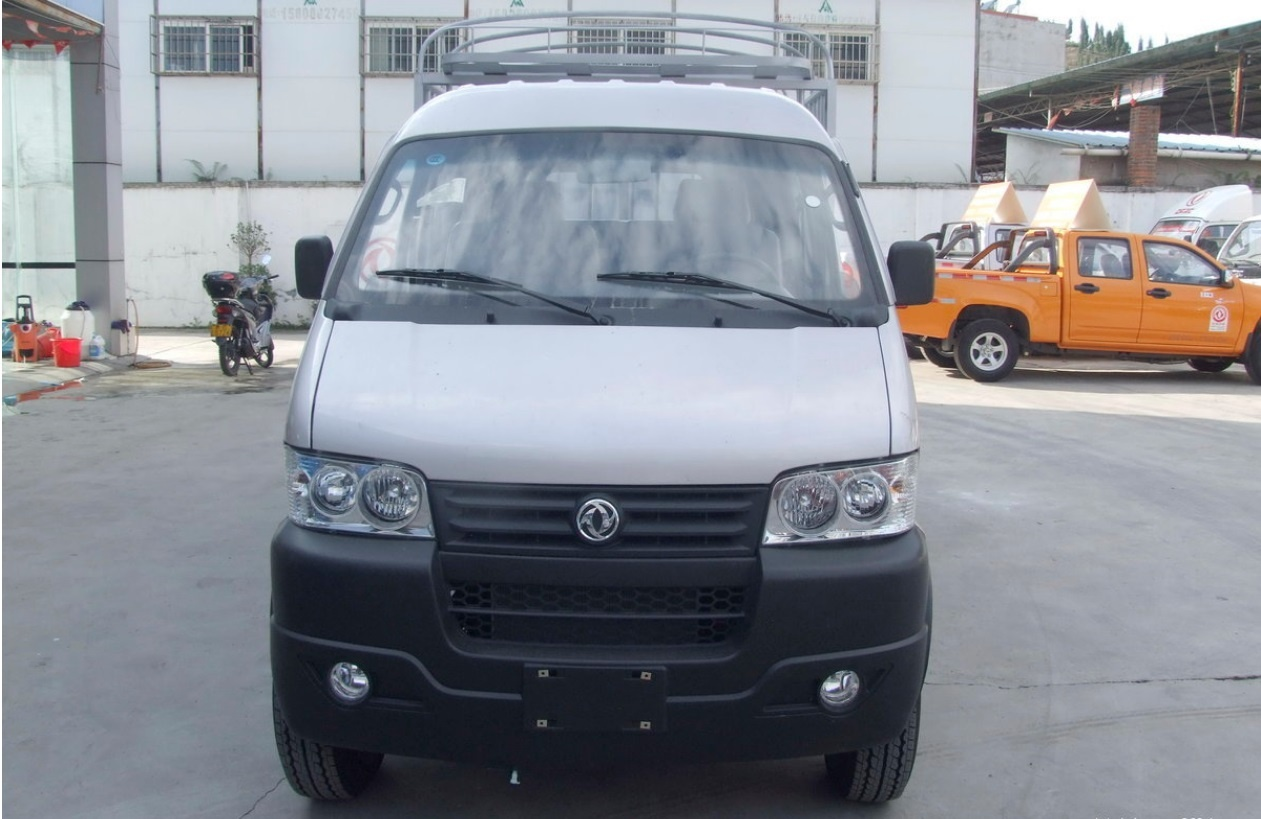truck: (283, 53, 975, 819), (899, 202, 1261, 378)
